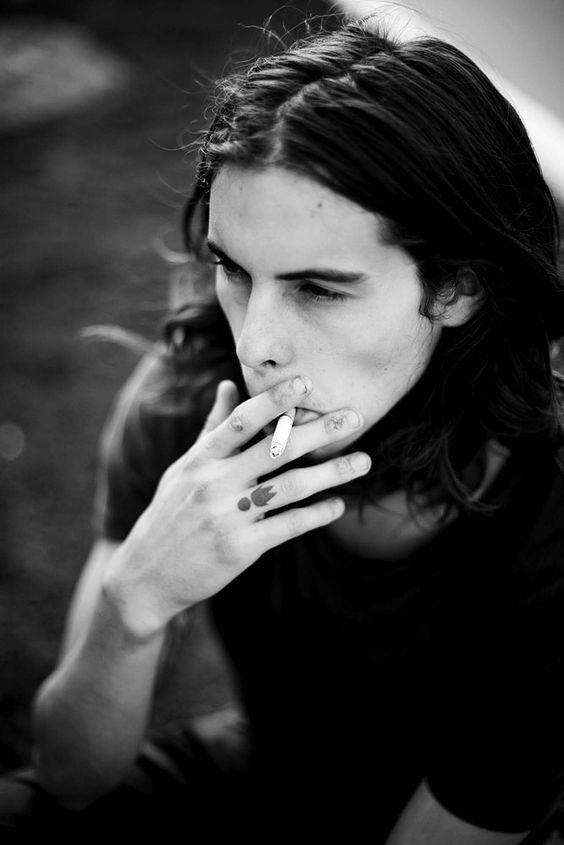cigarette: (269, 406, 298, 460)
